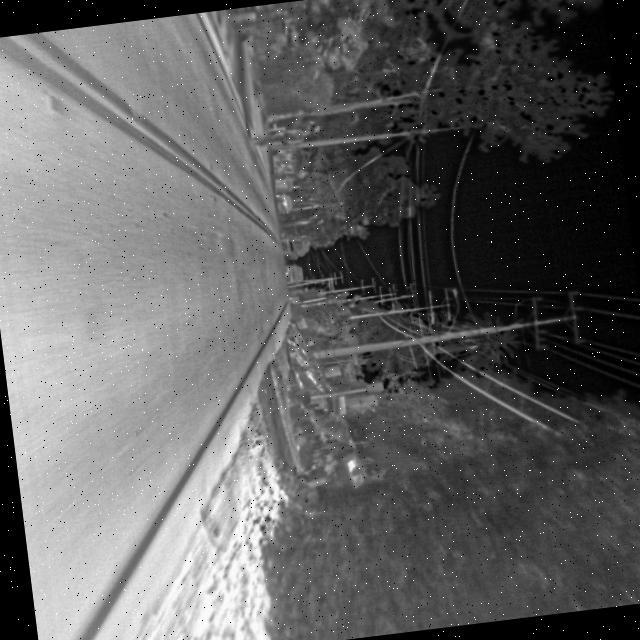Vehicle: (280, 262, 305, 288), (272, 190, 294, 217)
